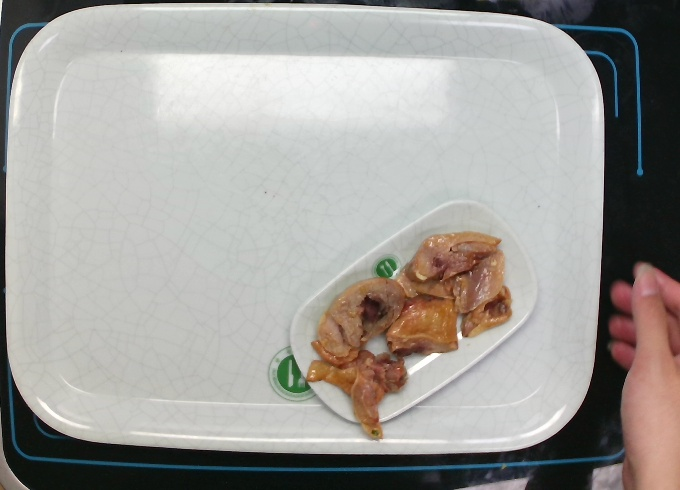WCQzf-Tuo_Yuan_Pan: (287, 196, 539, 430)
